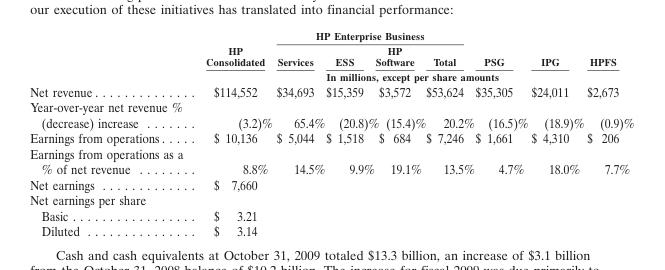table: (29, 29, 633, 238)
table column: (29, 29, 193, 238), (193, 29, 273, 238), (474, 29, 529, 238), (529, 29, 584, 238), (324, 29, 376, 238), (273, 29, 324, 238), (376, 29, 425, 238), (425, 29, 474, 238), (584, 29, 633, 238)
table column header: (29, 29, 633, 83)
table projected row header: (29, 192, 633, 207)
table row: (29, 98, 633, 129), (29, 145, 633, 176), (29, 43, 633, 68), (29, 129, 633, 145), (29, 176, 633, 192), (29, 207, 633, 223), (29, 68, 633, 83), (29, 83, 633, 98), (29, 192, 633, 207), (29, 223, 633, 238), (29, 29, 633, 43)
table spanning cell: (193, 68, 633, 83), (193, 29, 273, 68), (273, 29, 474, 43), (474, 29, 529, 68), (529, 29, 584, 68), (584, 29, 633, 68)
